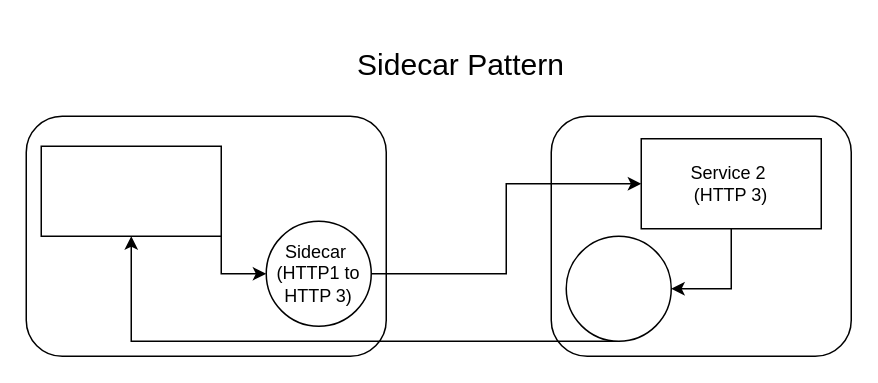
The diagram is 878 pixels wide and 383 high, and some of its shapes have lost their labels. The shapes that lost their labels are listed below. From the top down, each one's centre as x and y in pixels, then its label:
At pixel 130 190: "Service 1 (HTTP 1)".
At pixel 618 288: "Sidecar (HTTP 3 to HTTP 1)".
